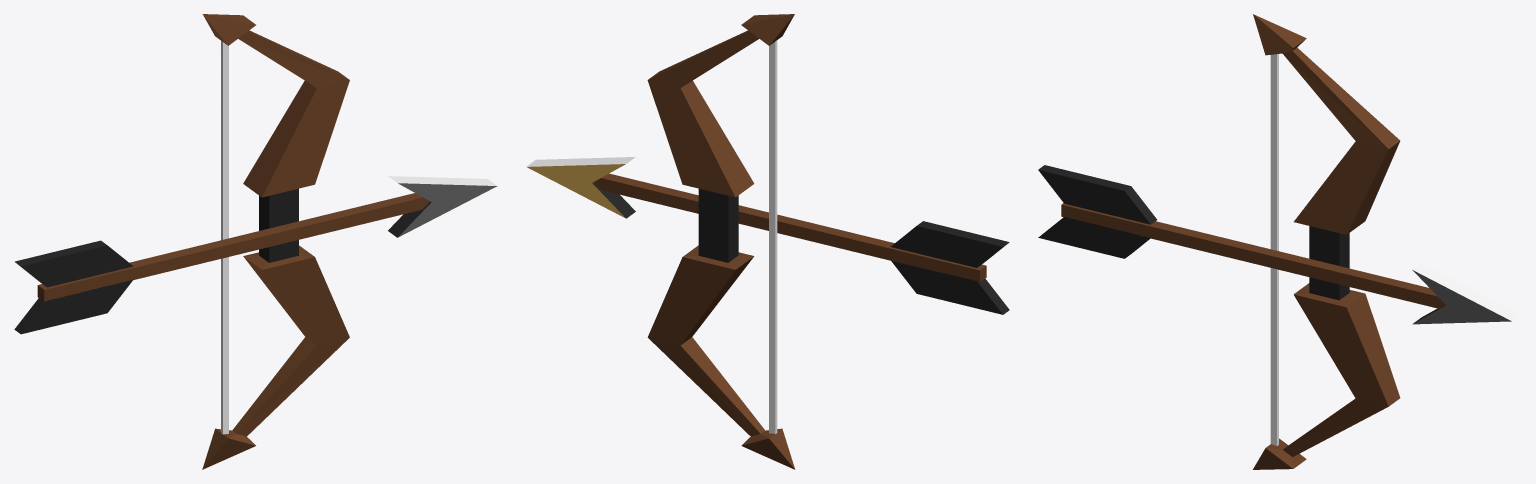
File: Icon_Attack.FBX
3 views of the same model, side by side, from view 1: azimuth 30°, elevation 25°; view 2: azimuth 150°, elevation 25°; view 3: azimuth 330°, elevation 25° (orthographic).
Visible parts, largest first — view 1: Box002; view 2: Box002; view 3: Box002.
Boxes of the visible parts, x1=… form: Box002: x1=14, y1=14, x2=497, y2=469; Box002: x1=526, y1=14, x2=1009, y2=469; Box002: x1=1038, y1=14, x2=1521, y2=469.
Bounding box in the file's own units: 24.77 × 22.71 × 2.47.
